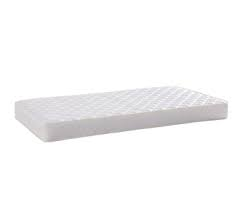bed-matress: (12, 85, 228, 141)
